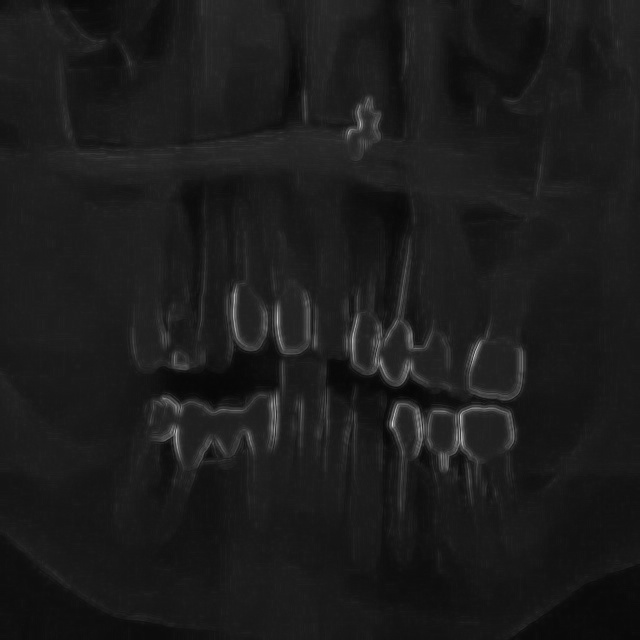Class 1- complete endodontic treatment: (457, 406, 546, 580), (155, 382, 222, 577), (348, 196, 389, 392)
Class 2- incomplete endodontic treatment: (462, 226, 554, 409)
